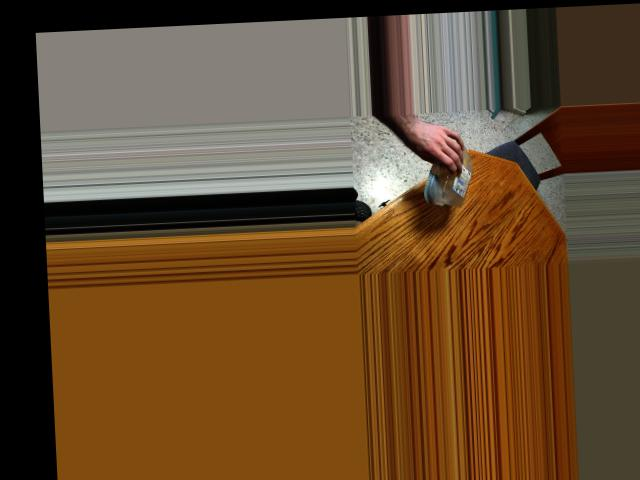cheese: (425, 146, 475, 204)
